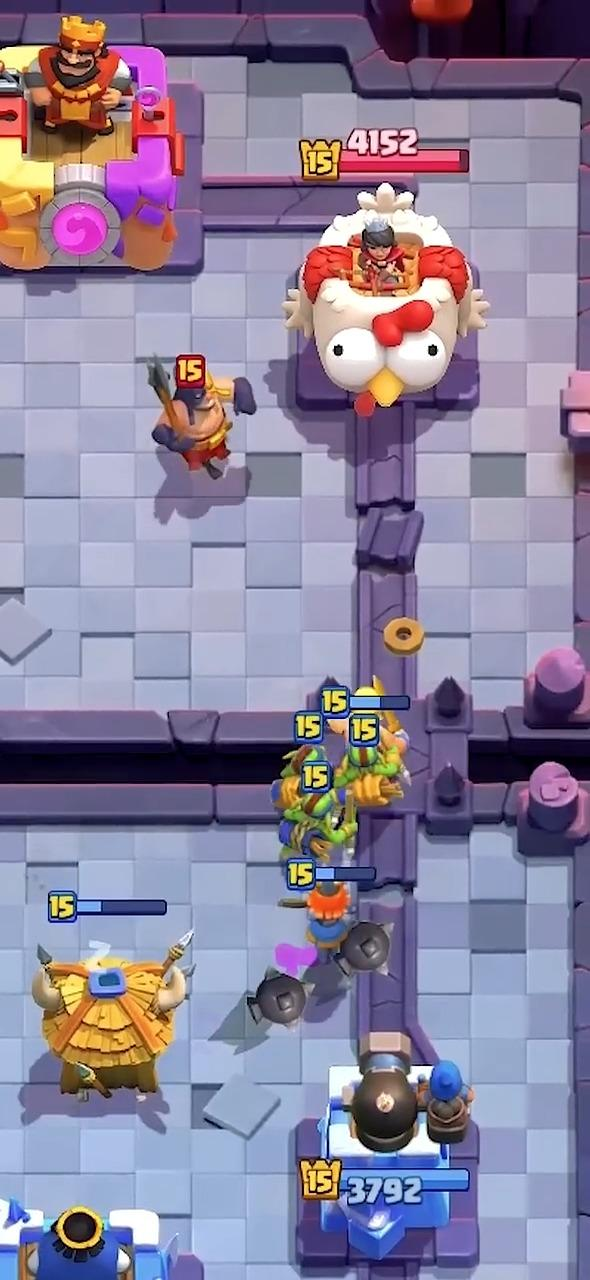executioner: (150, 361, 256, 479)
goblin hut: (31, 931, 191, 1099)
spear goblin: (279, 792, 357, 861), (342, 740, 405, 807), (273, 744, 324, 809)
valkyrie: (307, 880, 350, 952)
